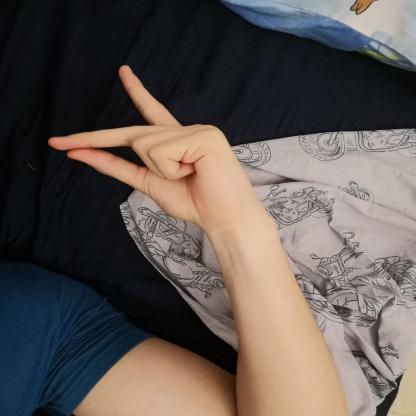TAA: (38, 57, 262, 230)
